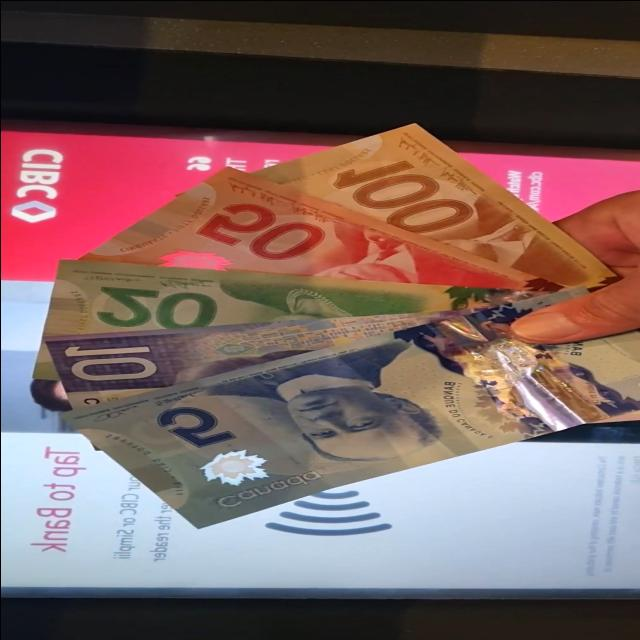10 cad: (43, 310, 460, 414)
100 cad: (244, 124, 613, 286)
20 cad: (39, 260, 501, 339)
5 cad: (63, 313, 640, 523)
50 cad: (63, 166, 561, 290)
